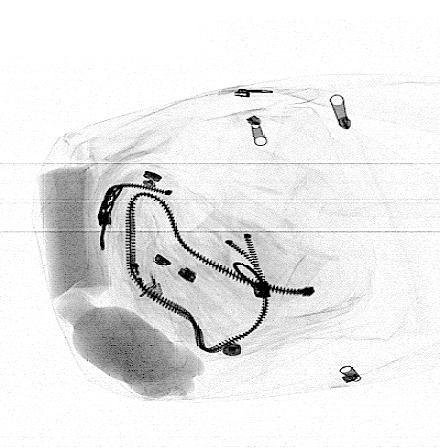Lighter: (116, 229, 165, 304)
